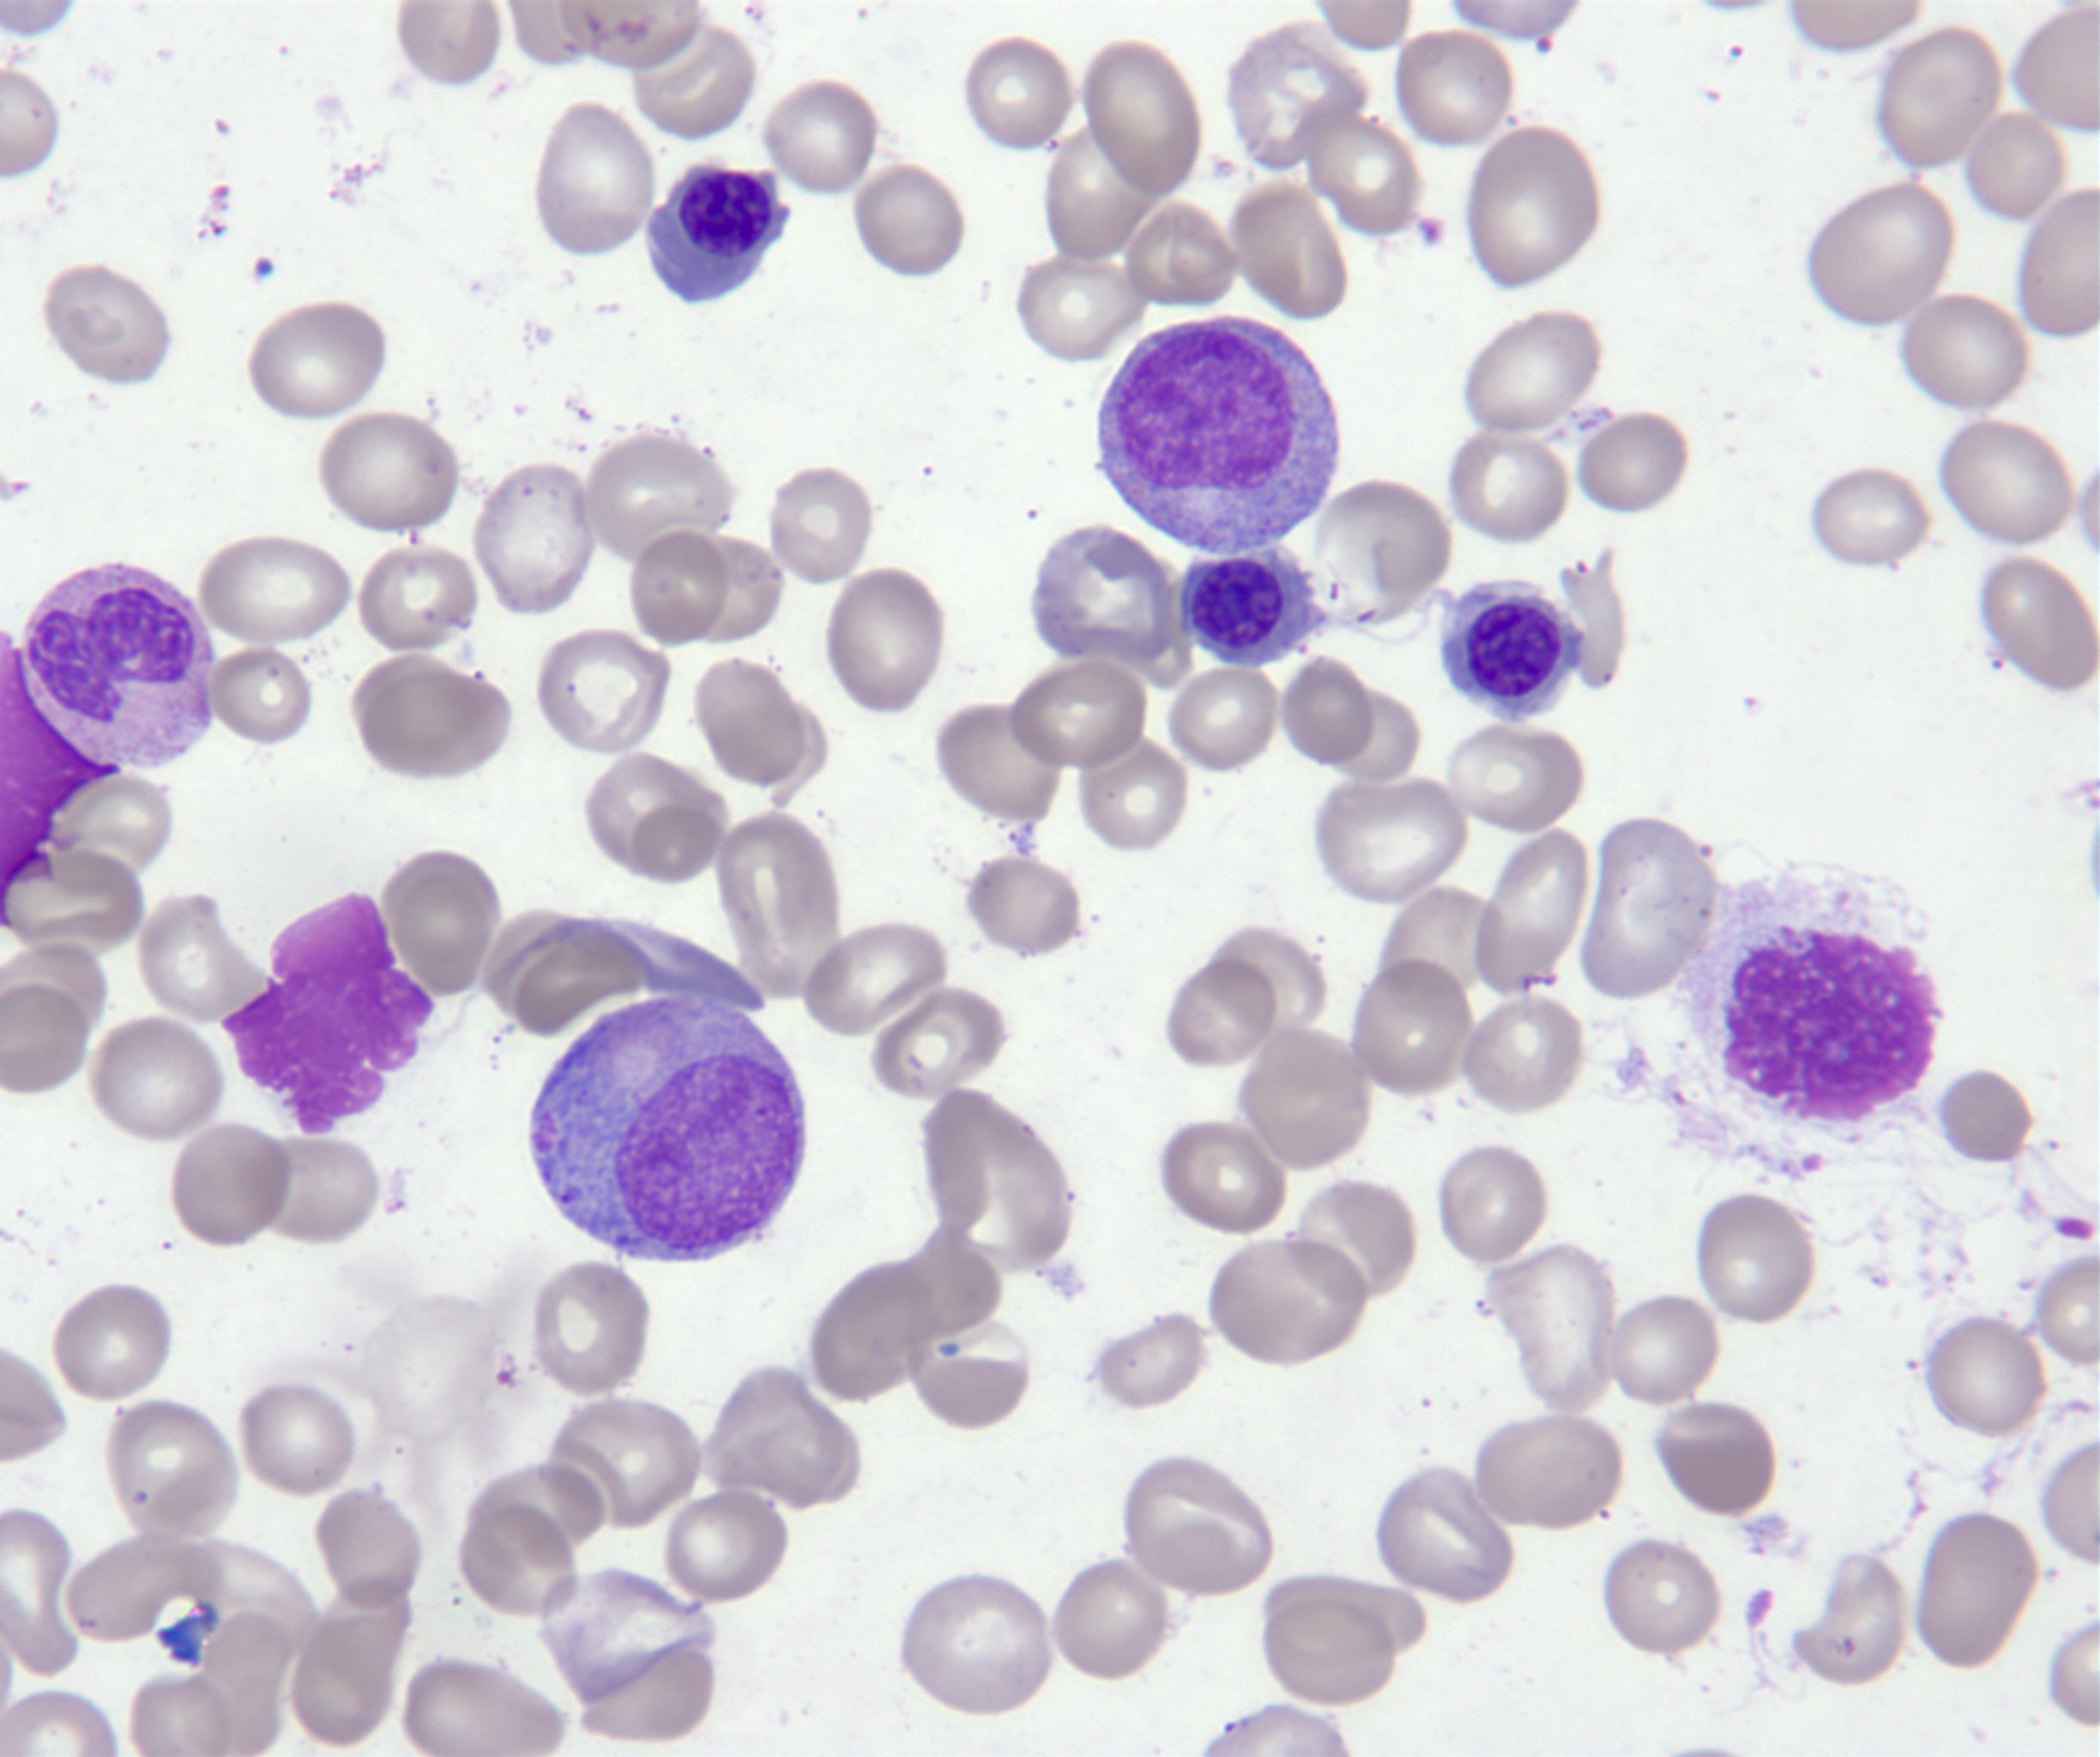24: (1441, 581, 1585, 721), (644, 162, 788, 302), (1172, 546, 1324, 663)
3: (534, 1000, 808, 1263), (1099, 319, 1341, 551)
6: (17, 562, 216, 764)
x: (1674, 860, 1938, 1120), (223, 892, 429, 1138), (0, 635, 120, 918)
